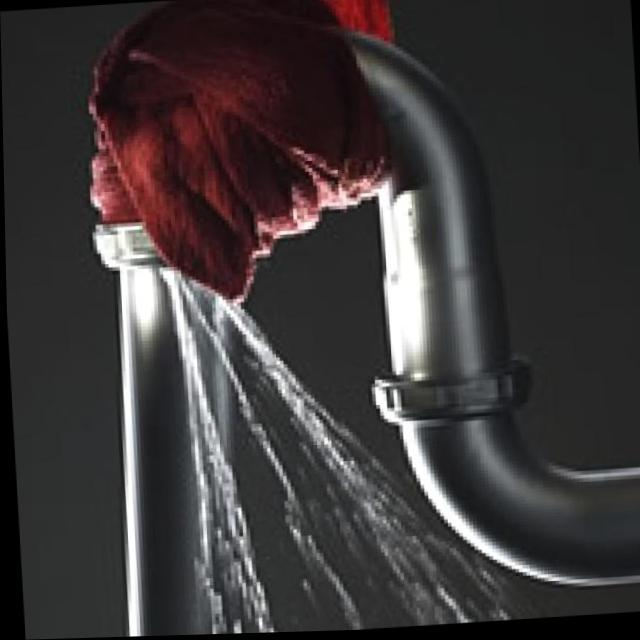leak: (125, 271, 533, 635)
